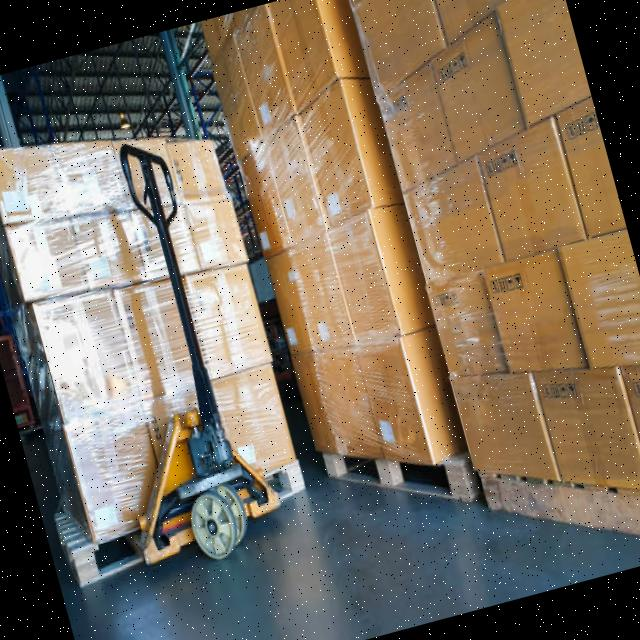Wooden-Pallets: (318, 446, 640, 534), (473, 469, 640, 535), (312, 445, 474, 502)
